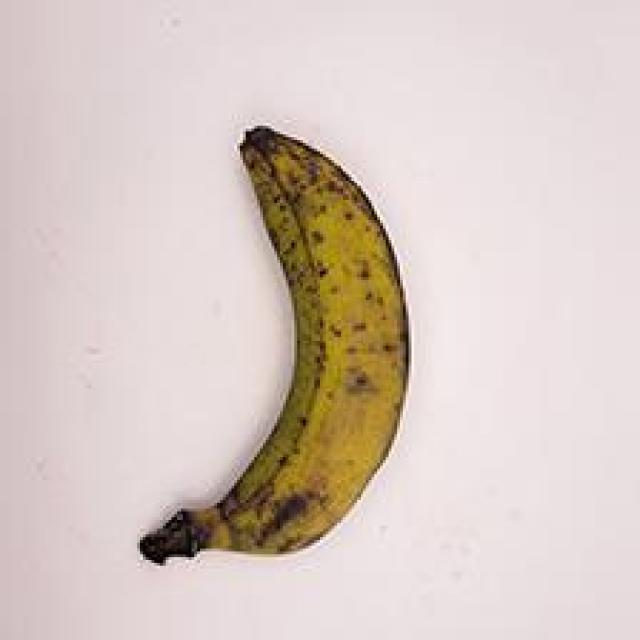Overripe: (79, 100, 446, 618)
